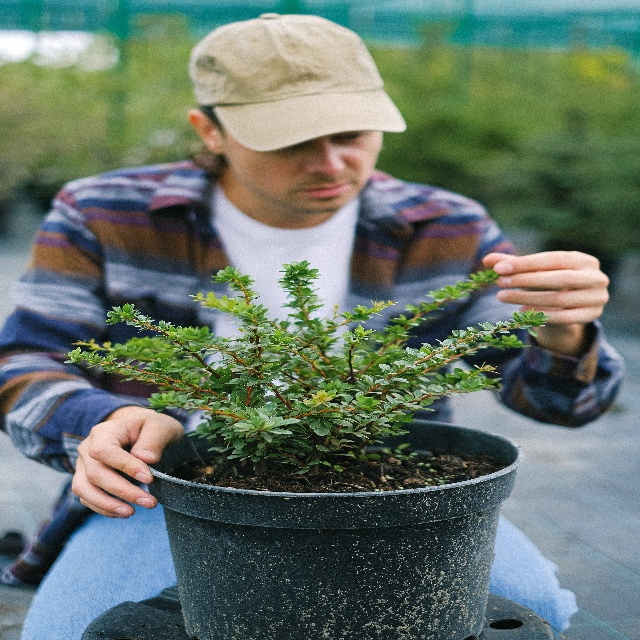Sin_guantes: (71, 401, 186, 522), (480, 246, 610, 325)
